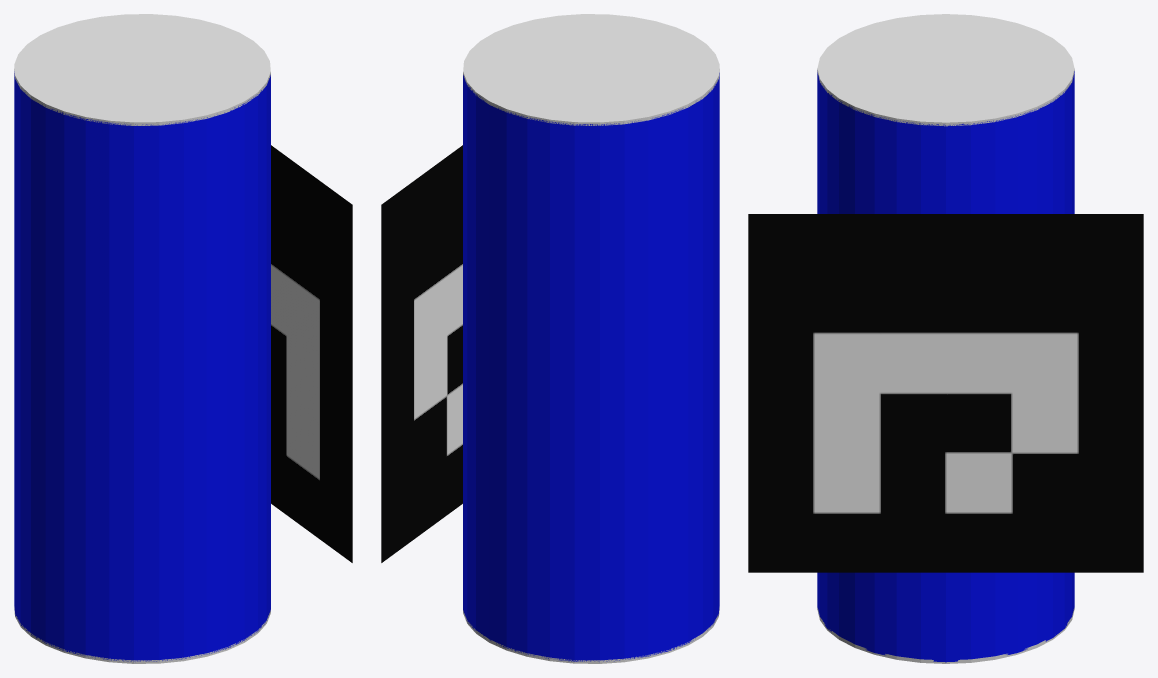
The model's file is can_id1.dae.
3 views of the same model, side by side, from view 1: azimuth 30°, elevation 25°; view 2: azimuth 150°, elevation 25°; view 3: azimuth 270°, elevation 25° (orthographic).
Visible parts, largest first — view 1: 円柱, 平面, 円柱.001, 円柱.002; view 2: 円柱, 平面, 円柱.001, 円柱.002; view 3: 平面, 円柱, 円柱.001, 円柱.002.
Boxes of the visible parts, left/top/right/bottom form: 円柱: left=14, top=71, right=270, bottom=661; 平面: left=271, top=145, right=352, bottom=562; 円柱.001: left=14, top=14, right=270, bottom=125; 円柱.002: left=14, top=607, right=270, bottom=663; 円柱: left=463, top=72, right=719, bottom=661; 平面: left=381, top=145, right=462, bottom=562; 円柱.001: left=463, top=14, right=719, bottom=125; 円柱.002: left=463, top=607, right=719, bottom=663; 平面: left=748, top=214, right=1143, bottom=572; 円柱: left=817, top=71, right=1074, bottom=662; 円柱.001: left=817, top=14, right=1074, bottom=126; 円柱.002: left=817, top=608, right=1074, bottom=663.
Bounding box in the file's own units: 0.13 × 0.2 × 0.302.
